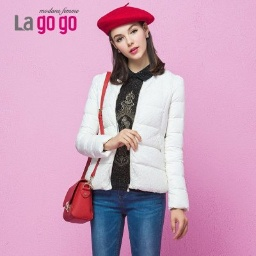face: (103, 21, 164, 85)
